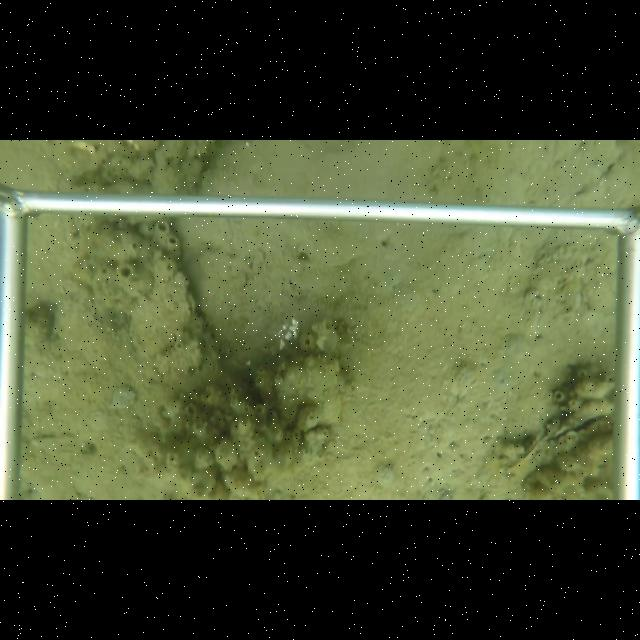Oyster-Closed: (70, 230, 223, 380)
Oyster-Open: (536, 405, 613, 459)
